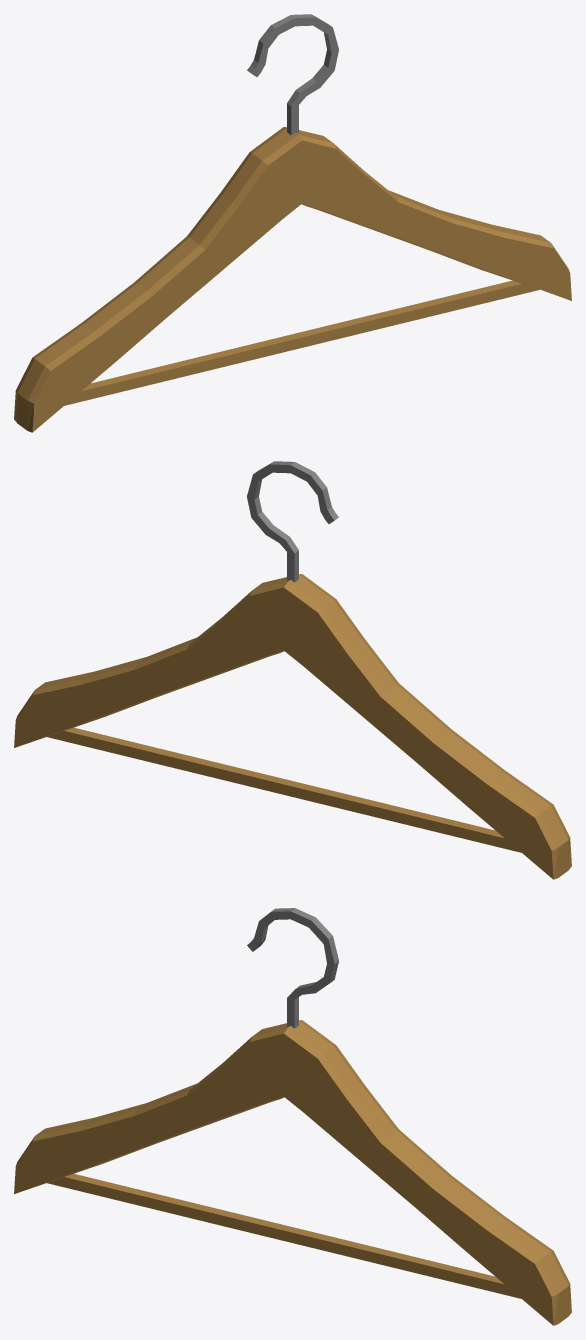
File: clothes hanger.gltf
3 renders of one model, top to bottom at view 1: azimuth 30°, elevation 25°; view 2: azimuth 150°, elevation 25°; view 3: azimuth 330°, elevation 25°, orthographic.
Visible parts, largest first — view 1: node-0; view 2: node-0; view 3: node-0.
Part boxes in pixels (<box>): node-0: <box>14,14,571,432</box>; node-0: <box>14,461,571,879</box>; node-0: <box>14,908,571,1325</box>.
Bounding box in the file's own units: 4.39 × 2.67 × 0.2596.
